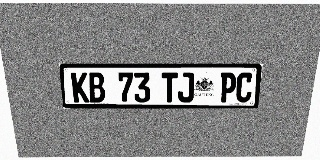3: (134, 72, 150, 102)
7: (117, 72, 134, 102)
B: (88, 72, 106, 102)
C: (235, 72, 254, 102)
J: (178, 72, 194, 102)
K: (71, 72, 89, 102)
P: (219, 72, 237, 102)
T: (161, 72, 178, 102)
